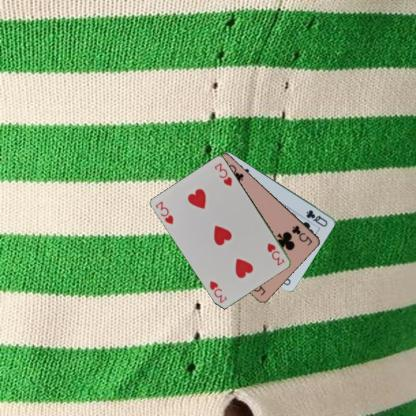3h: (153, 199, 175, 225), (265, 240, 286, 267)
5c: (289, 223, 314, 247)
Qc: (304, 206, 329, 228)
